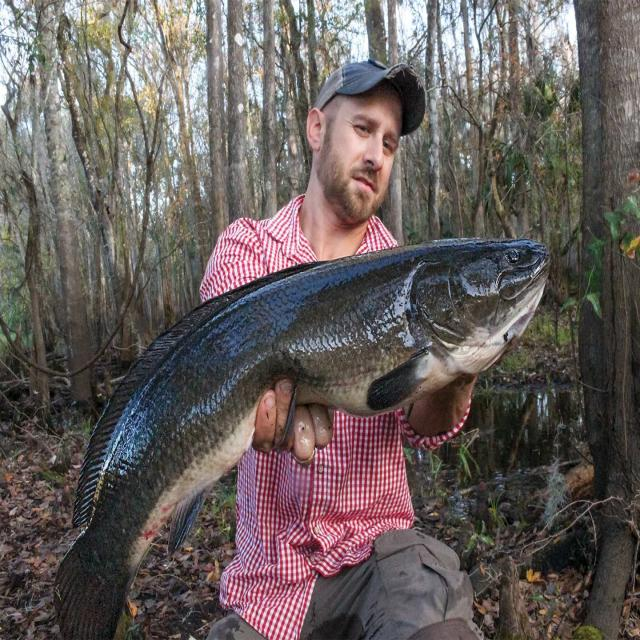Bowfin: (55, 238, 550, 638)
